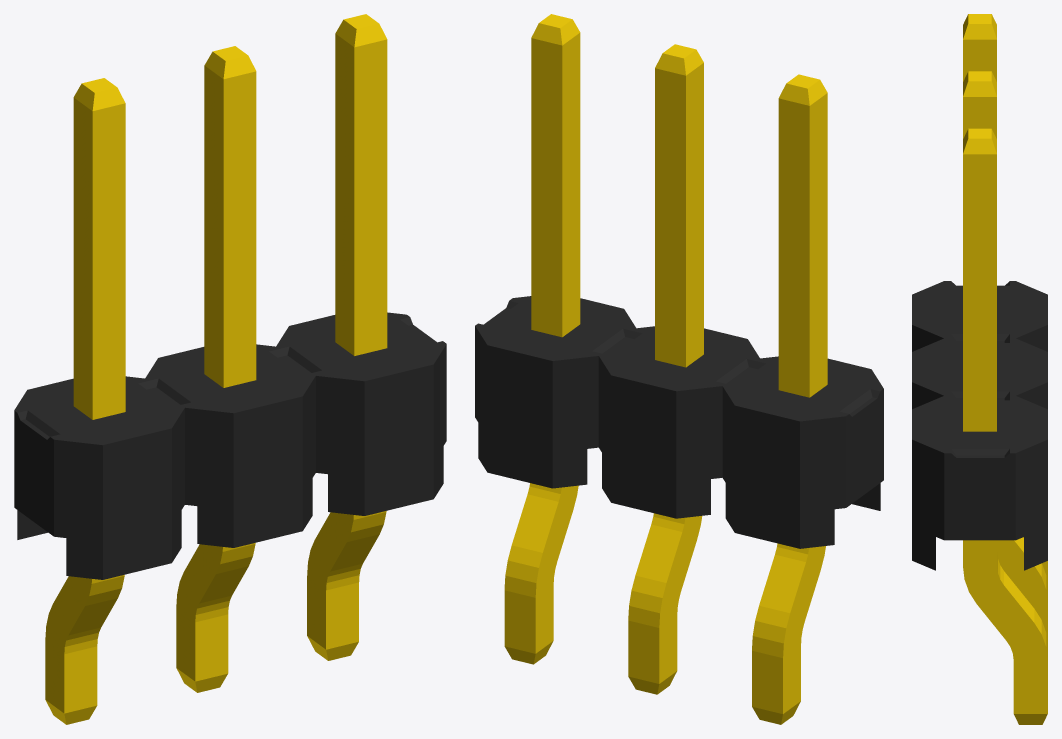
File: DS1025 (PLS-03T CONNFLY).obj
The picture shows the model from 3 angles, left to right: view 1: azimuth 30°, elevation 25°; view 2: azimuth 150°, elevation 25°; view 3: azimuth 270°, elevation 25°; orthographic projection. The views are drawn at different scales.
Visible parts, largest first — view 1: DS1025_(PLS-03T_CONNFLY); view 2: DS1025_(PLS-03T_CONNFLY); view 3: DS1025_(PLS-03T_CONNFLY).
Part boxes in pixels (bbox=[...]): DS1025_(PLS-03T_CONNFLY): bbox=[14, 14, 446, 724]; DS1025_(PLS-03T_CONNFLY): bbox=[475, 14, 883, 724]; DS1025_(PLS-03T_CONNFLY): bbox=[912, 14, 1047, 724].
Size of the model in its own units: 0.00761 by 0.0121 by 0.00254.
